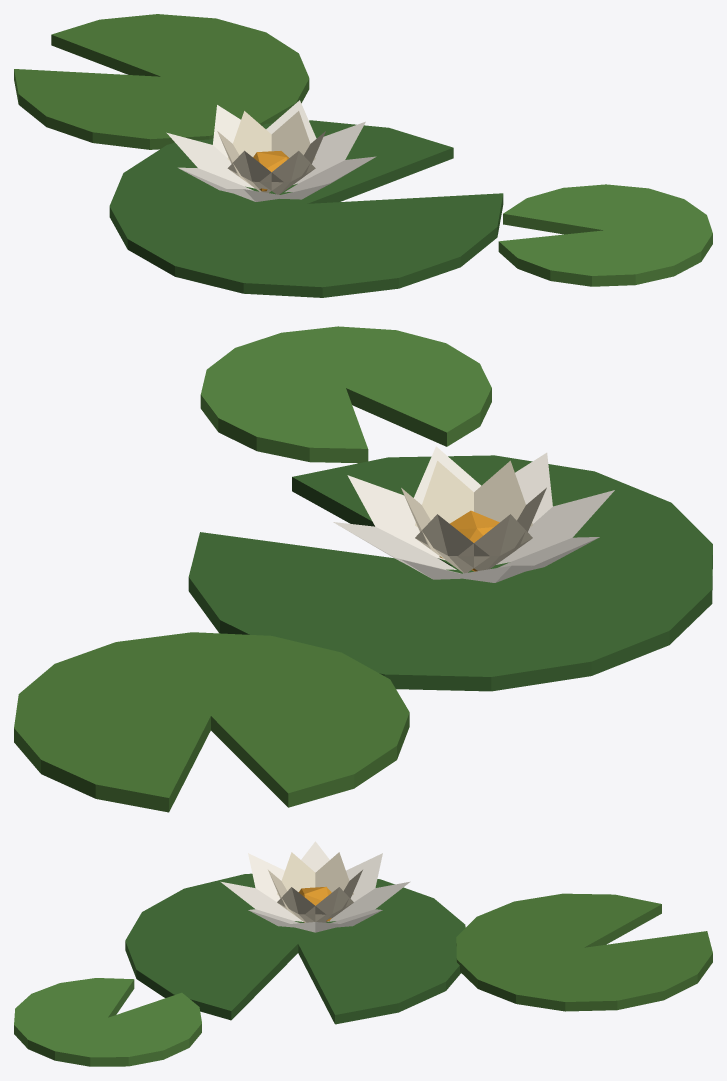
Rendered from mdvl_nature_lilypad_01.glb.
3 views of the same model, one above another, from view 1: azimuth 30°, elevation 25°; view 2: azimuth 150°, elevation 25°; view 3: azimuth 270°, elevation 25° (orthographic). The views are drawn at different scales.
Parts seen in each view (by area): view 1: mdvl_nature_lilypad_01; view 2: mdvl_nature_lilypad_01; view 3: mdvl_nature_lilypad_01.
Boxes of the visible parts, x1,y1,x2,y2 form: mdvl_nature_lilypad_01: (14,14,712,297); mdvl_nature_lilypad_01: (14,326,712,812); mdvl_nature_lilypad_01: (14,841,712,1066).
Size of the model in its own units: 0.5273 by 0.0927 by 0.8077.
1 material, 1 textured.
